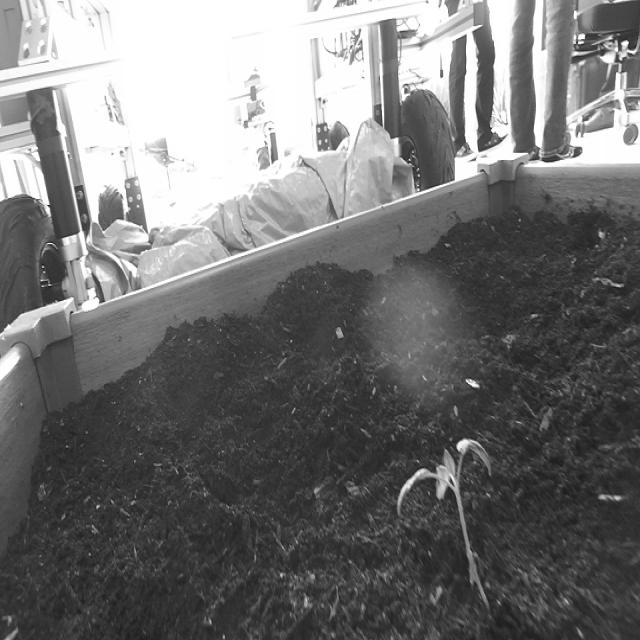Healthy: (394, 427, 505, 619)
